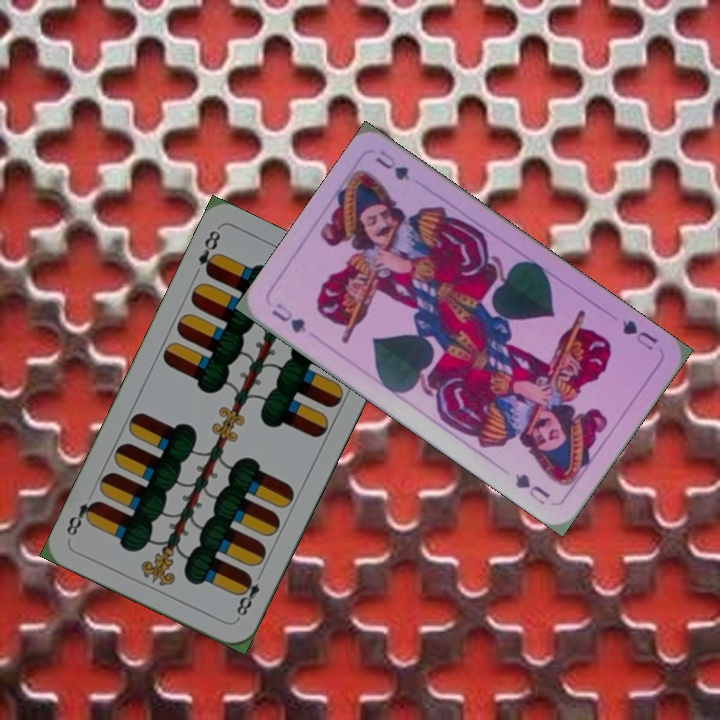E8: (232, 567, 266, 623), (194, 226, 223, 279)
GU: (267, 298, 309, 337), (618, 315, 660, 353)
